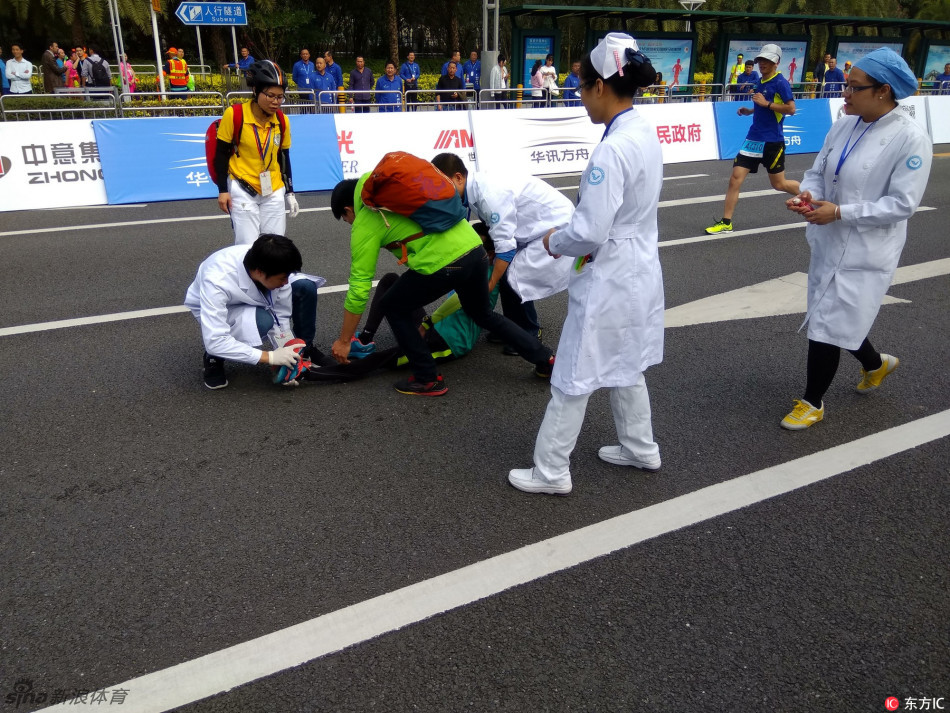10+: (1, 30, 950, 423)
down: (280, 219, 524, 400)
